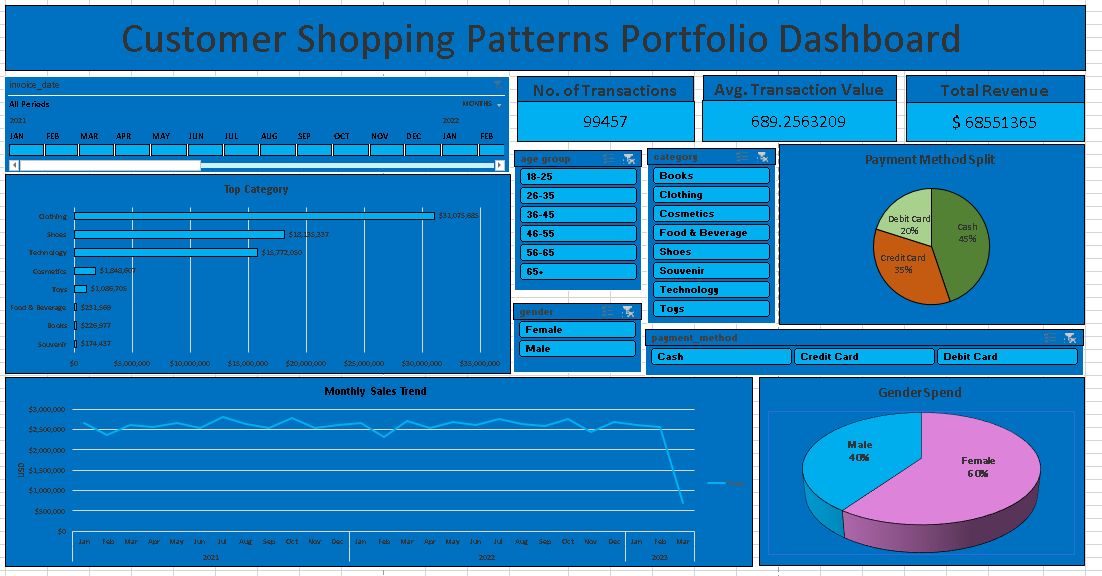

What the dashboard file says about the page in this screenshot:
{"tool":"powerbi","page":{"name":"Page 1","canvas":[1280,720],"ordinal":0},"visuals":[{"type":"barChart","title":"Top Category","fields":{"Category":["customer_shopping_dataproject.category"],"Y":["Sum(customer_shopping_dataproject.price)"]},"box":[0,176,544,304],"z":0},{"type":"lineChart","title":"Monthly Sales Trend","fields":{"Y":["Sum(customer_shopping_dataproject.price)"],"Category":["customer_shopping_dataproject.invoice_date.Variation.Date Hierarchy.Year","customer_shopping_dataproject.invoice_date.Variation.Date Hierarchy.Month"]},"box":[0,496,768,224],"z":1000},{"type":"pieChart","title":"Payment Method Split","fields":{"Y":["CountNonNull(customer_shopping_dataproject.payment_method)"],"Category":["customer_shopping_dataproject.payment_method"]},"box":[848,192,432,288],"z":2000},{"type":"donutChart","title":"Gender Spend","fields":{"Y":["CountNonNull(customer_shopping_dataproject.gender)"],"Category":["customer_shopping_dataproject.gender"]},"box":[784,496,496,224],"z":3000},{"type":"shape","box":[0,0,1280,64],"z":4000},{"type":"textbox","box":[0,0,1280,64],"z":5000},{"type":"slicer","title":"Age Group","fields":{"Values":["customer_shopping_dataproject.age group"]},"box":[560,256,96,224],"z":6000},{"type":"slicer","title":"Category","fields":{"Values":["customer_shopping_dataproject.category"]},"box":[672,192,160,288],"z":7000},{"type":"slicer","title":"Gender","fields":{"Values":["customer_shopping_dataproject.gender"]},"box":[560,160,96,80],"z":8000},{"type":"slicer","title":"Payment Method","fields":{"Values":["customer_shopping_dataproject.payment_method"]},"box":[304,80,352,64],"z":9000},{"type":"cardVisual","title":"Total Revenue ","fields":{"Data":["Sum(customer_shopping_dataproject.price)"]},"box":[1088,80,192,96],"z":10000},{"type":"cardVisual","title":"Avg. Transaction Value","fields":{"Data":["Avg(customer_shopping_dataproject.price)"]},"box":[880,80,192,96],"z":11000},{"type":"cardVisual","title":"No. of Transactions","fields":{"Data":["CountNonNull(customer_shopping_dataproject.customer_id)"]},"box":[672,80,192,96],"z":12000},{"type":"slicer","title":"Select Date Range","fields":{"Values":["customer_shopping_dataproject.invoice_date"]},"box":[0,80,288,80],"z":13000},{"type":"actionButton","box":[304,144,192,32],"z":14000}]}

Visuals, with their boxes on the page's 1280x720 design canvas (x1, y1, x2, y2). These are canvas units, not pixel positions in the 1102x576 screenshot, which may show the page scaled, cropped or inside an application window:
"Top Category" barChart: l=0, t=176, r=544, b=480
"Monthly Sales Trend" lineChart: l=0, t=496, r=768, b=720
"Payment Method Split" pieChart: l=848, t=192, r=1280, b=480
"Gender Spend" donutChart: l=784, t=496, r=1280, b=720
shape: l=0, t=0, r=1280, b=64
textbox: l=0, t=0, r=1280, b=64
"Age Group" slicer: l=560, t=256, r=656, b=480
"Category" slicer: l=672, t=192, r=832, b=480
"Gender" slicer: l=560, t=160, r=656, b=240
"Payment Method" slicer: l=304, t=80, r=656, b=144
"Total Revenue " cardVisual: l=1088, t=80, r=1280, b=176
"Avg. Transaction Value" cardVisual: l=880, t=80, r=1072, b=176
"No. of Transactions" cardVisual: l=672, t=80, r=864, b=176
"Select Date Range" slicer: l=0, t=80, r=288, b=160
actionButton: l=304, t=144, r=496, b=176
